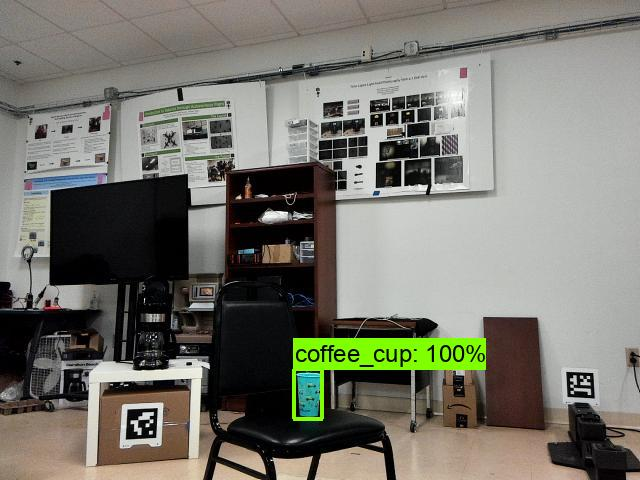coffee_cup: (292, 369, 323, 419)
